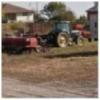tractors: (40, 18, 88, 46)
